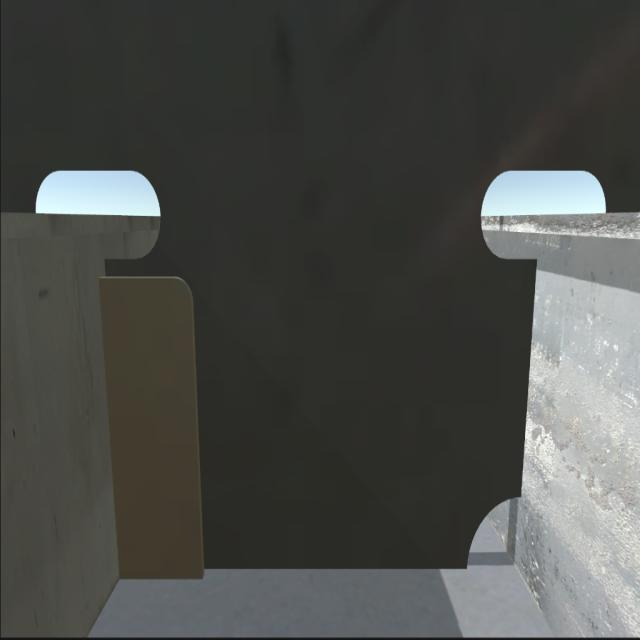fillet_hole: (466, 490, 518, 575)
fillet_yong_jeop_jang: (121, 556, 476, 586)
longi_yong_jeop_jang: (92, 276, 127, 588), (522, 252, 538, 502)
plate_CP05: (122, 281, 202, 584)
